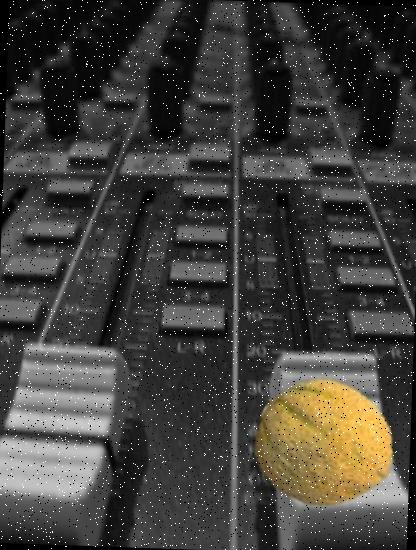Cantaloupe: (252, 372, 398, 518)
